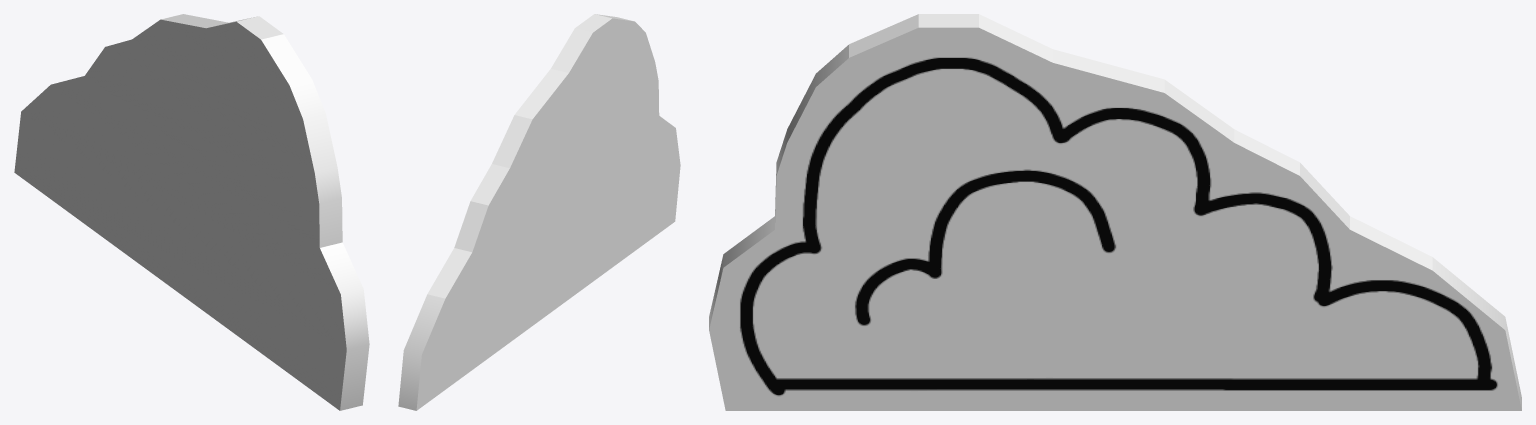
The model's file is cloud.fbx.
3 views of the same model, side by side, from view 1: azimuth 30°, elevation 25°; view 2: azimuth 150°, elevation 25°; view 3: azimuth 270°, elevation 25° (orthographic). The views are drawn at different scales.
Visible parts, largest first — view 1: pCube21; view 2: pCube21; view 3: pCube21.
Boxes of the visible parts, bbox=[...] form: pCube21: bbox=[14, 14, 369, 410]; pCube21: bbox=[398, 14, 680, 410]; pCube21: bbox=[709, 14, 1521, 410].
Size of the model in its own units: 0.5 by 6.56 by 12.61.
